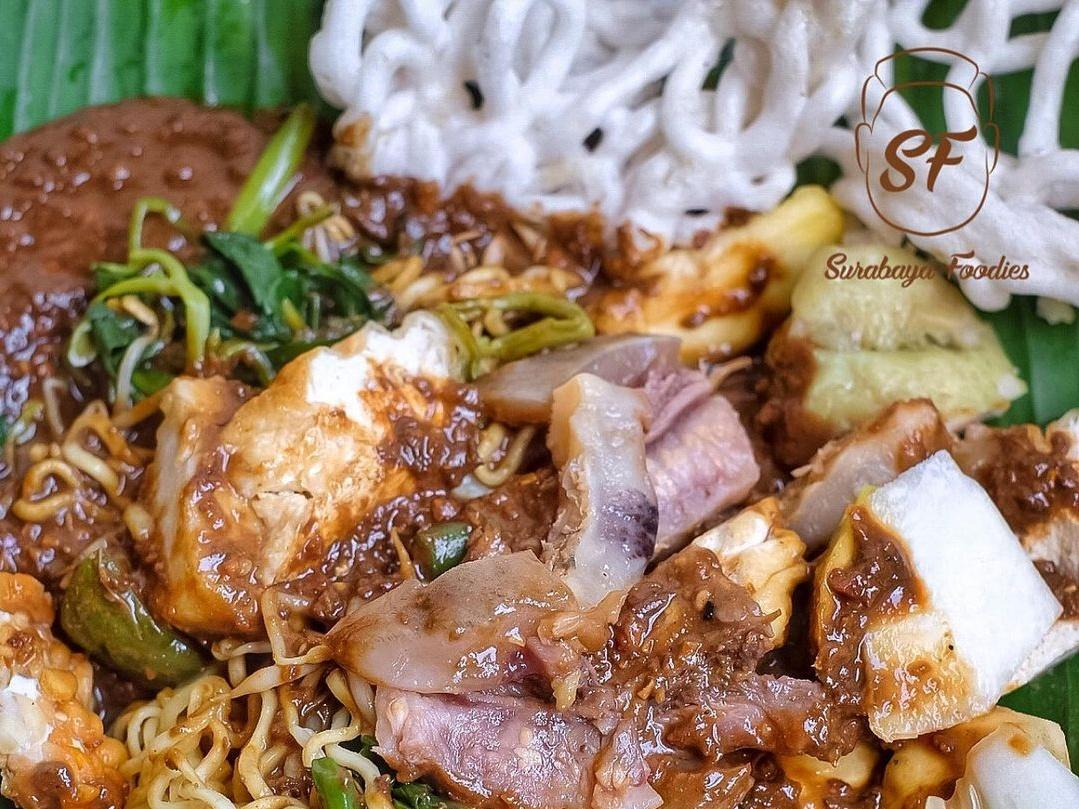rujak_cingur: (4, 217, 1079, 809)
